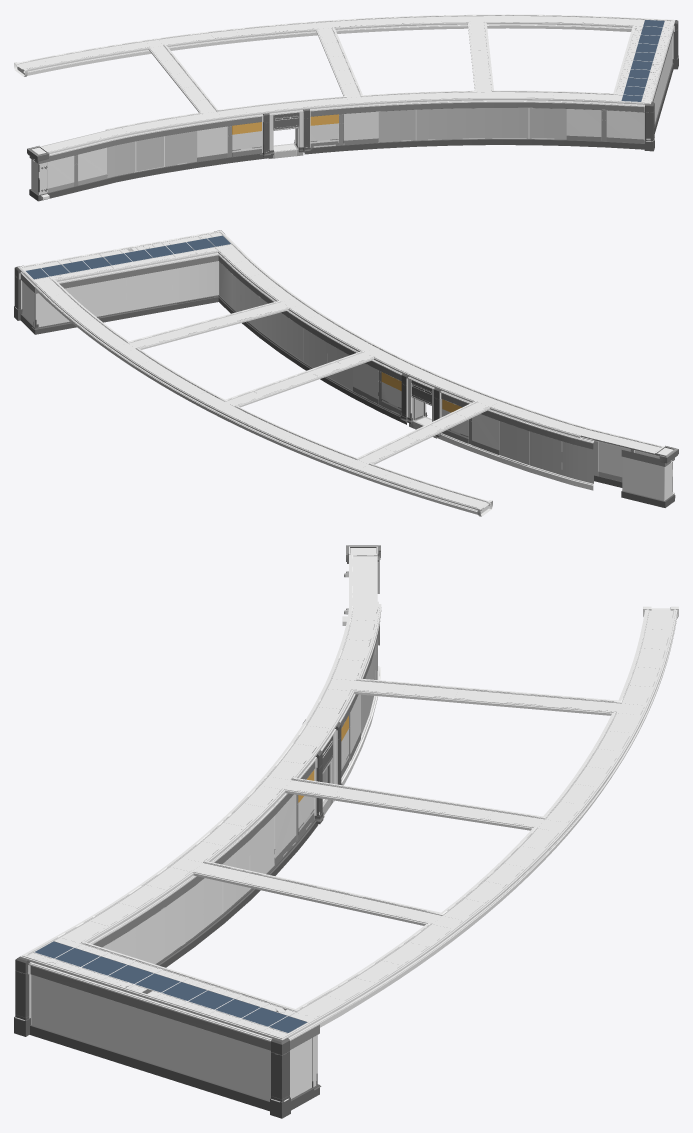
The picture shows the model from 3 angles, top to bottom: view 1: azimuth 30°, elevation 25°; view 2: azimuth 150°, elevation 25°; view 3: azimuth 270°, elevation 25°; orthographic projection. The views are drawn at different scales.
Parts seen in each view (by area): view 1: SM_H_Building_FutureTech_Aerospace_02; view 2: SM_H_Building_FutureTech_Aerospace_02; view 3: SM_H_Building_FutureTech_Aerospace_02.
Part boxes in pixels (left/top/right/bottom): SM_H_Building_FutureTech_Aerospace_02: left=14, top=14, right=678, bottom=201; SM_H_Building_FutureTech_Aerospace_02: left=14, top=230, right=678, bottom=516; SM_H_Building_FutureTech_Aerospace_02: left=14, top=545, right=678, bottom=1118.
Size of the model in its own units: 2588 by 4582 by 342.
